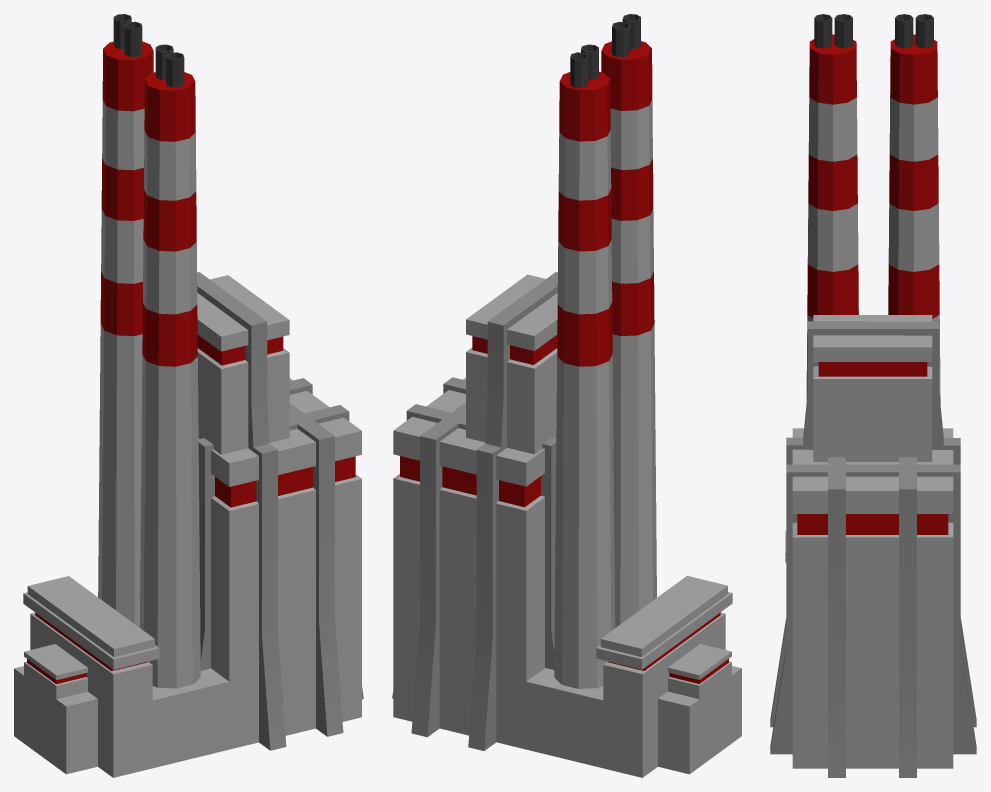
The model's file is CoalPlant.fbx.
The picture shows the model from 3 angles, left to right: view 1: azimuth 30°, elevation 25°; view 2: azimuth 150°, elevation 25°; view 3: azimuth 270°, elevation 25°; orthographic projection. The views are drawn at different scales.
Visible parts, largest first — view 1: CoalPlant; view 2: CoalPlant; view 3: CoalPlant.
Boxes of the visible parts, bbox=[...] form: CoalPlant: bbox=[14, 14, 363, 777]; CoalPlant: bbox=[392, 14, 741, 777]; CoalPlant: bbox=[770, 14, 976, 777].
Bounding box in the file's own units: 23.54 × 51.75 × 14.45.
